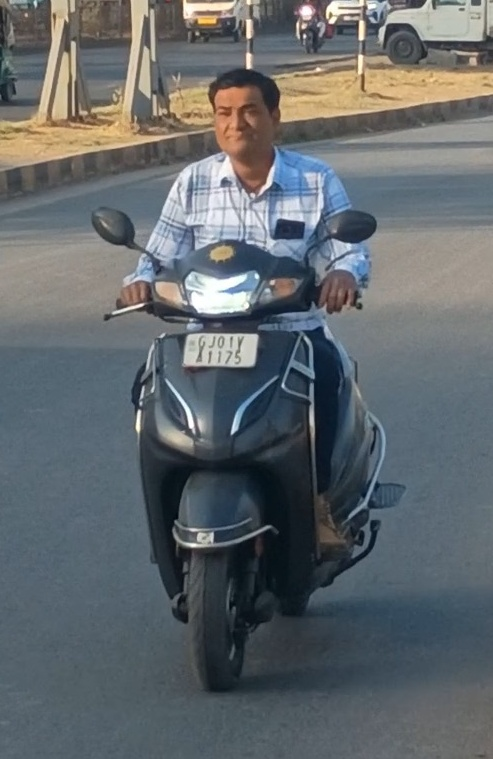BikeWithRider: (81, 61, 414, 700)
NoHelmet: (198, 62, 288, 164)
